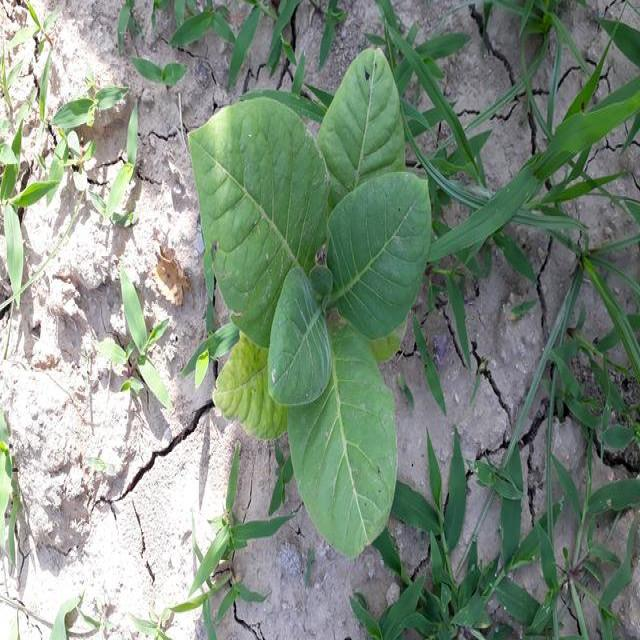crop: (193, 52, 435, 548)
